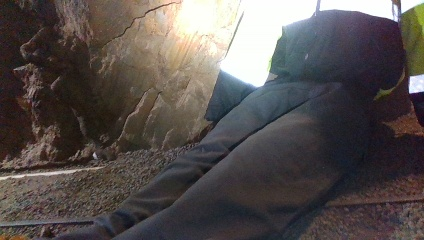manikin: (69, 0, 422, 238)
